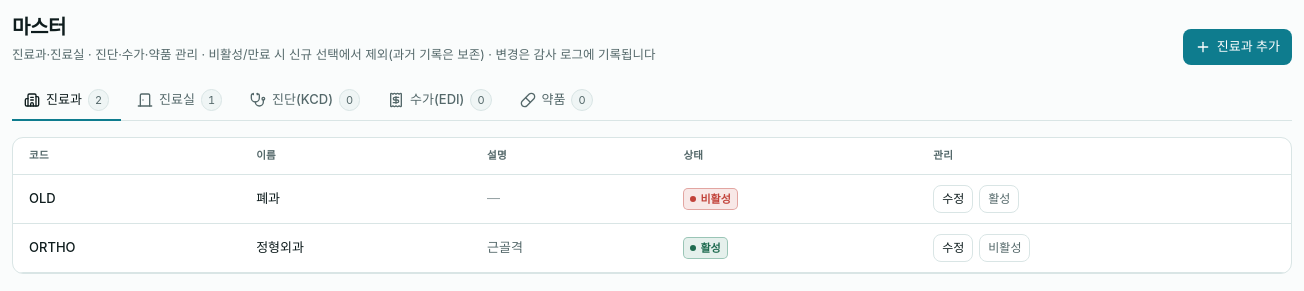
MastersManager › 진료실 탭 전환 → 소속 진료과 명칭 표시
What coordinates should you click on to do the following:
click the tab "진료실 1"
I would click on:
 (180, 101)
Its box is [125,81,234,121].
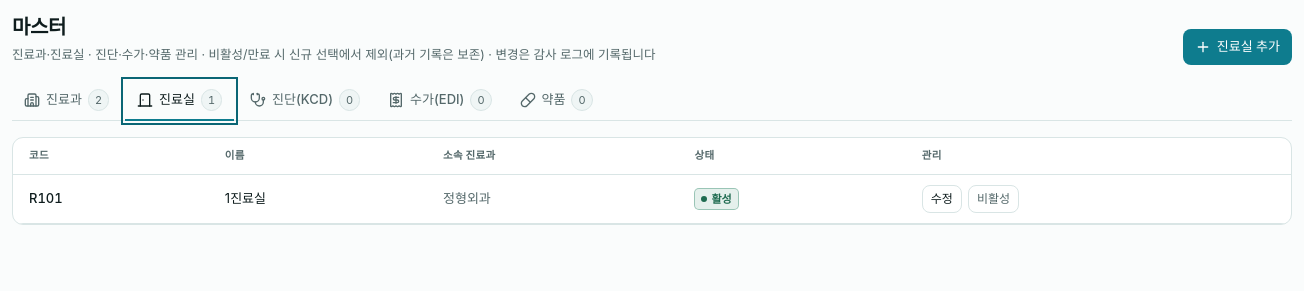
Expected: the text "정형외과" is shown, [427,175,678,224]
Expected: the text "1진료실" is shown, [209,175,427,224]
